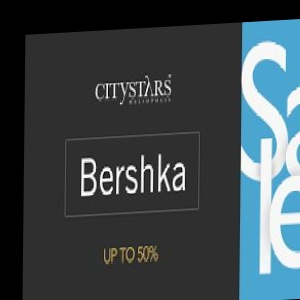bershka: (172, 81, 215, 199)
